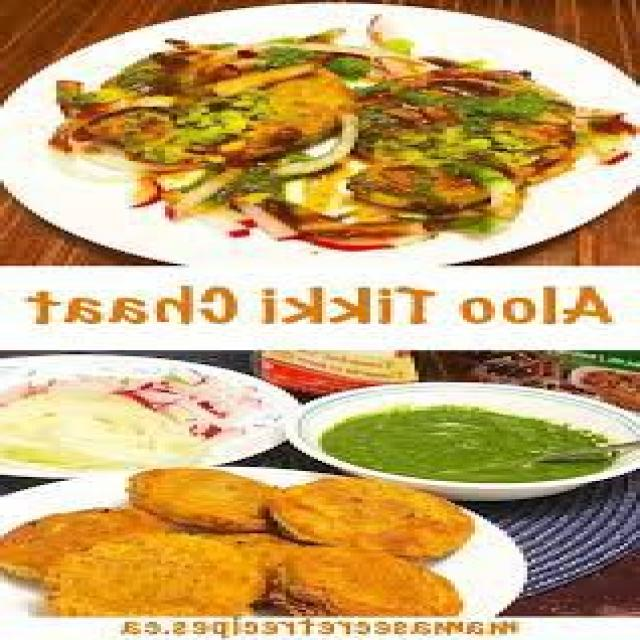Aloo Tikki: (47, 530, 264, 616), (273, 476, 472, 558), (0, 503, 181, 584), (274, 547, 450, 616), (125, 467, 289, 534)
